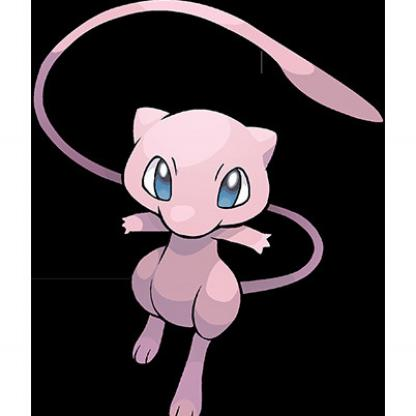Mew: (10, 2, 416, 416)
